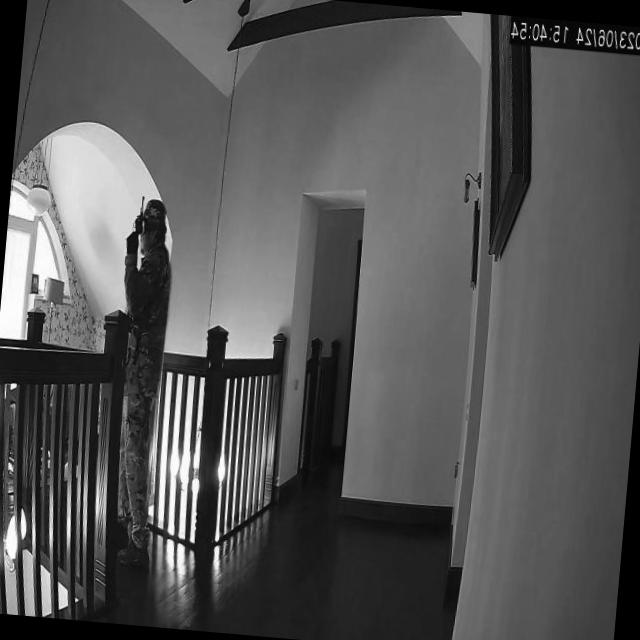gun: (128, 193, 146, 237)
person with a gun: (98, 194, 180, 572)
